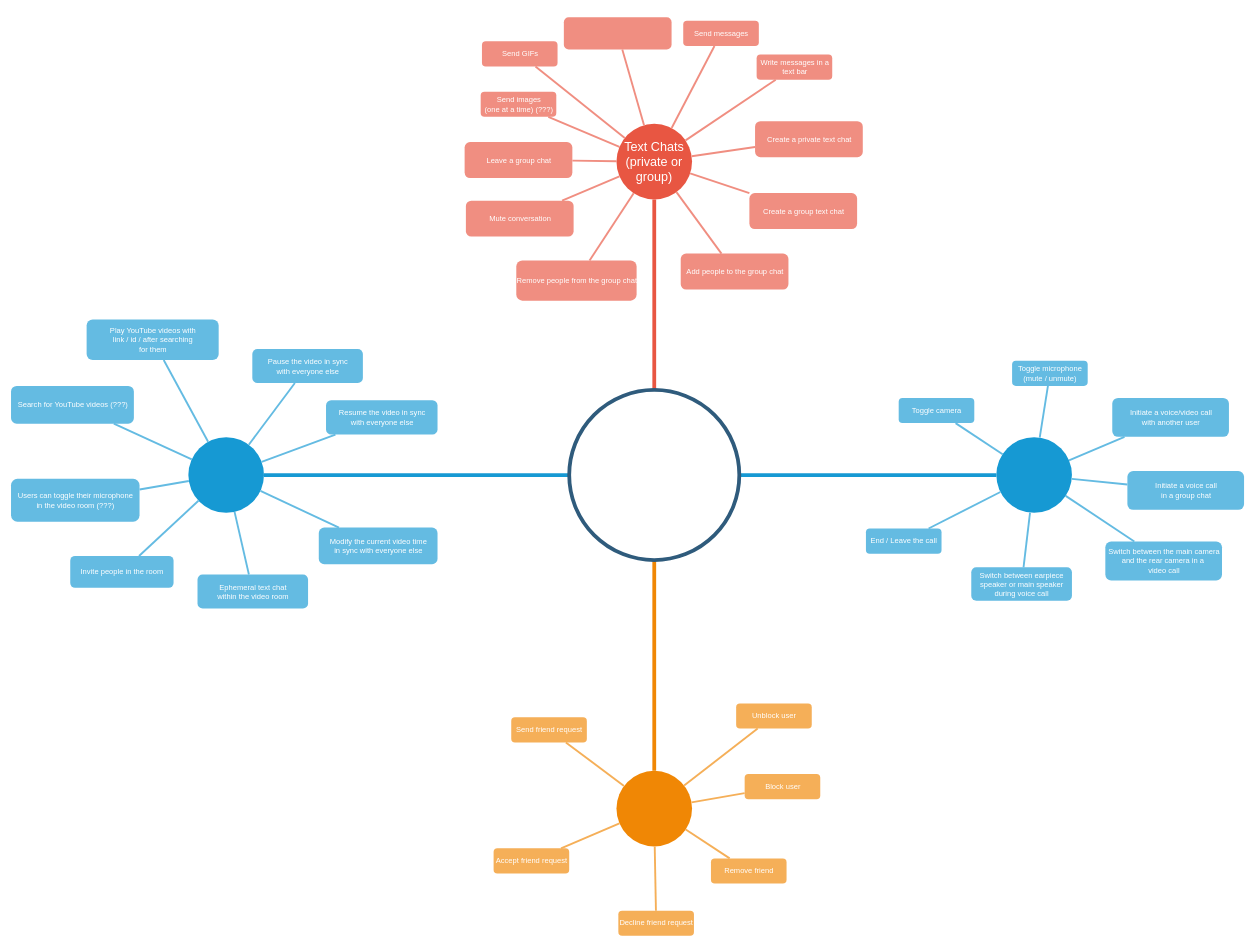
The diagram is 1255 pixels wide and 946 high, and some of its shapes have lost their labels. Here are the shapes that lost their labels. From the top down, the centre of each, then its label:
[617,33]: Send emojis (in messages)
[226,475]: Video Rooms
[654,475]: ChaTogether
[1034,475]: Calls
[654,808]: Friend System
